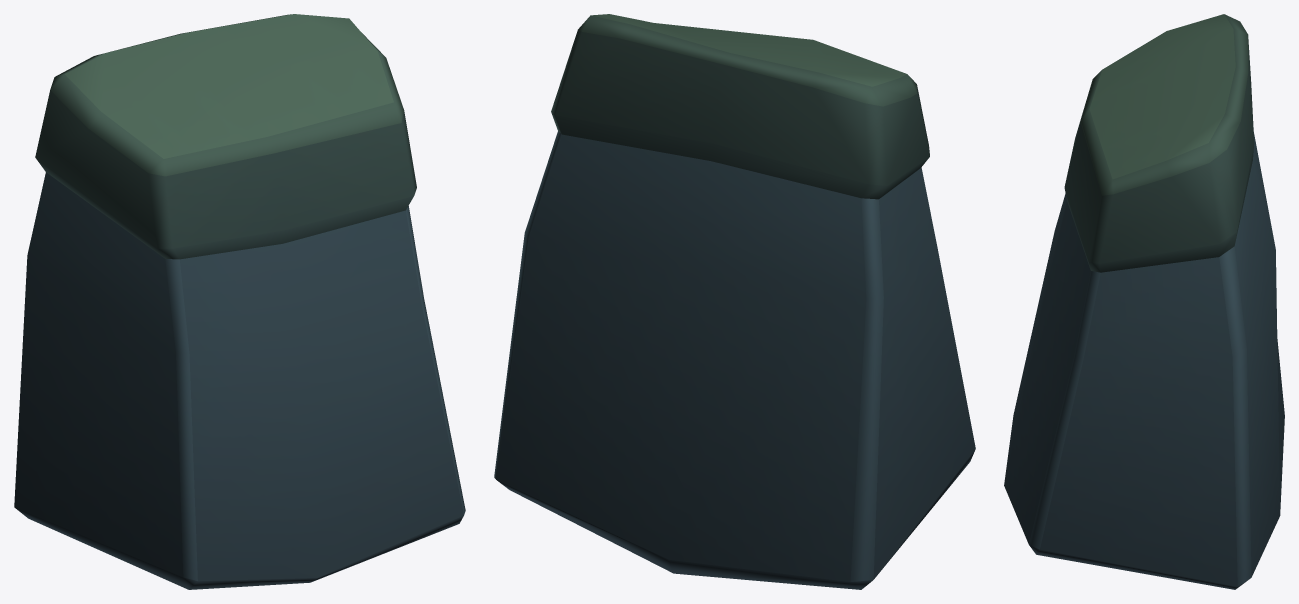
The model's file is rock_large_grass_09.fbx.
The picture shows the model from 3 angles, left to right: view 1: azimuth 30°, elevation 25°; view 2: azimuth 150°, elevation 25°; view 3: azimuth 270°, elevation 25°; orthographic projection. The views are drawn at different scales.
Parts seen in each view (by area): view 1: rock_large_grass_09; view 2: rock_large_grass_09; view 3: rock_large_grass_09.
Boxes of the visible parts, x1=… form: rock_large_grass_09: x1=14, y1=14, x2=465, y2=589; rock_large_grass_09: x1=494, y1=14, x2=975, y2=589; rock_large_grass_09: x1=1004, y1=14, x2=1284, y2=589.
Bounding box in the file's own units: 908 × 1128 × 636.
